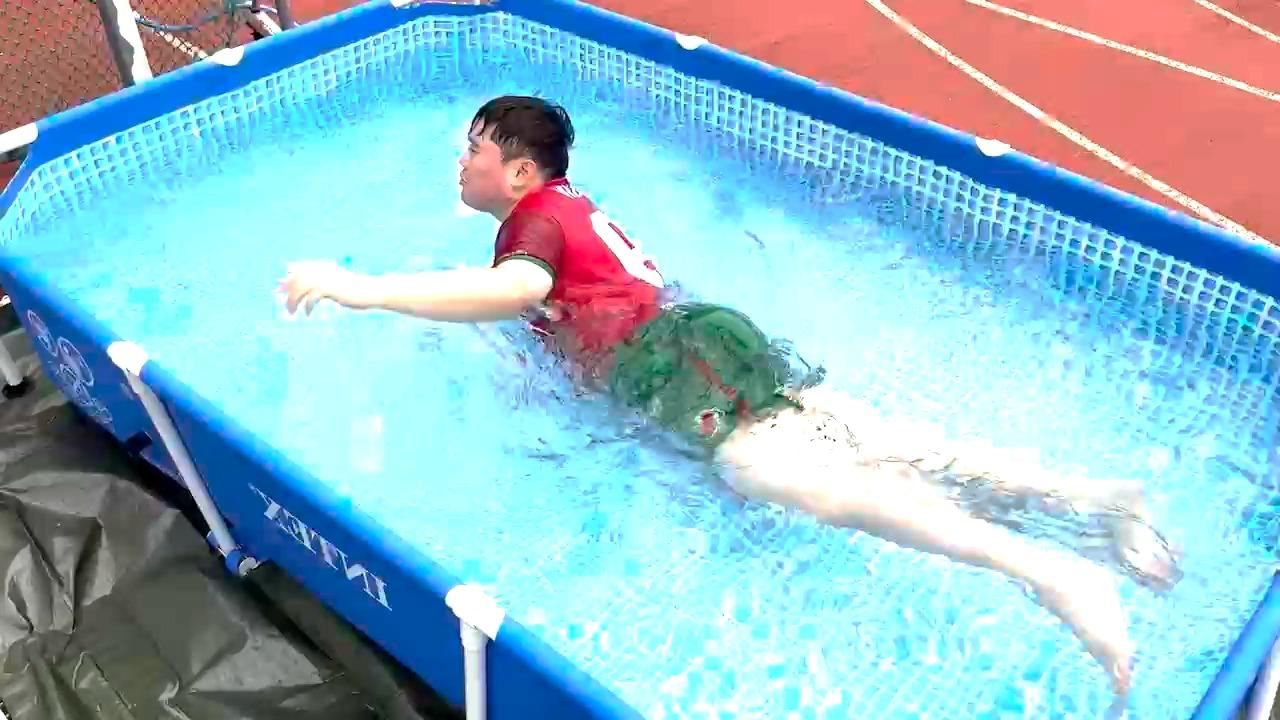Swimming: (231, 53, 1187, 657)
